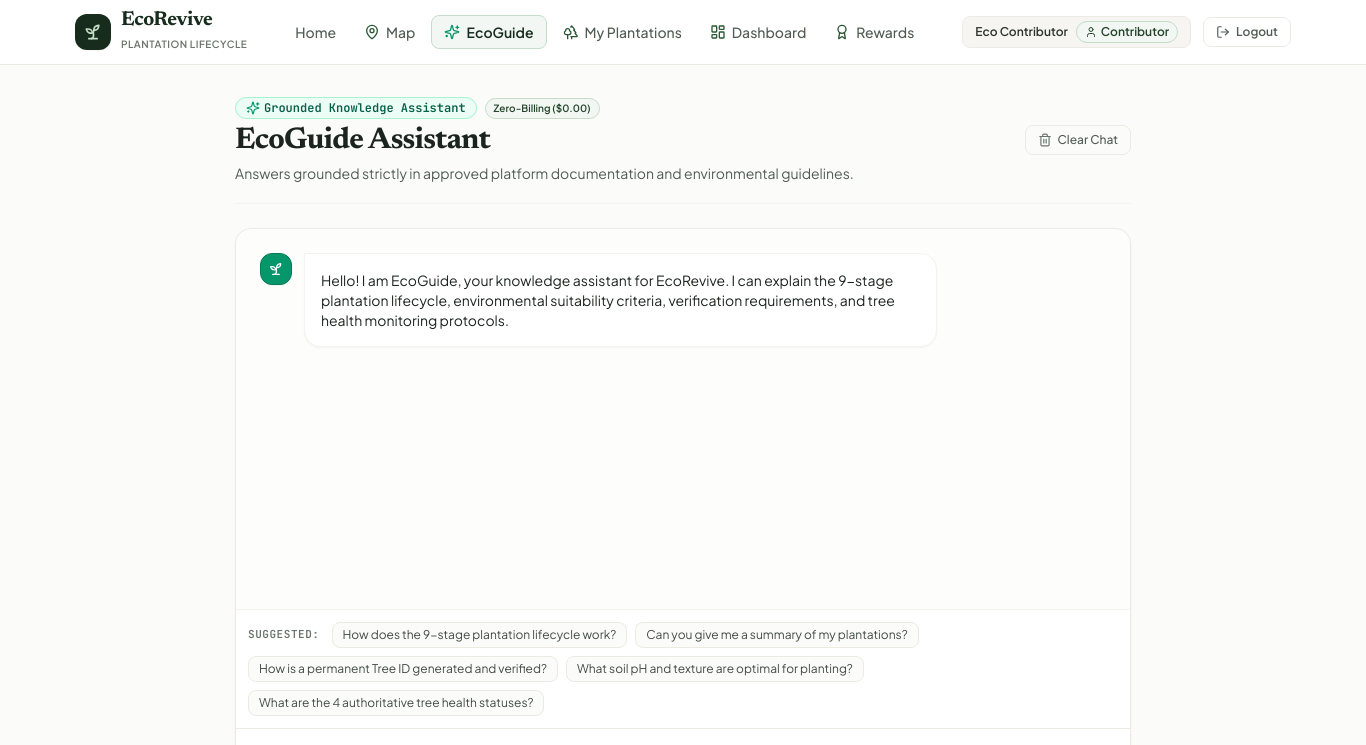
Frontend V2-M2 — EcoGuide Knowledge Assistant › should reset conversation when Clear Chat button is clicked
Click the button "Clear Chat".
click(1078, 140)  # box [1024,125,1131,155]
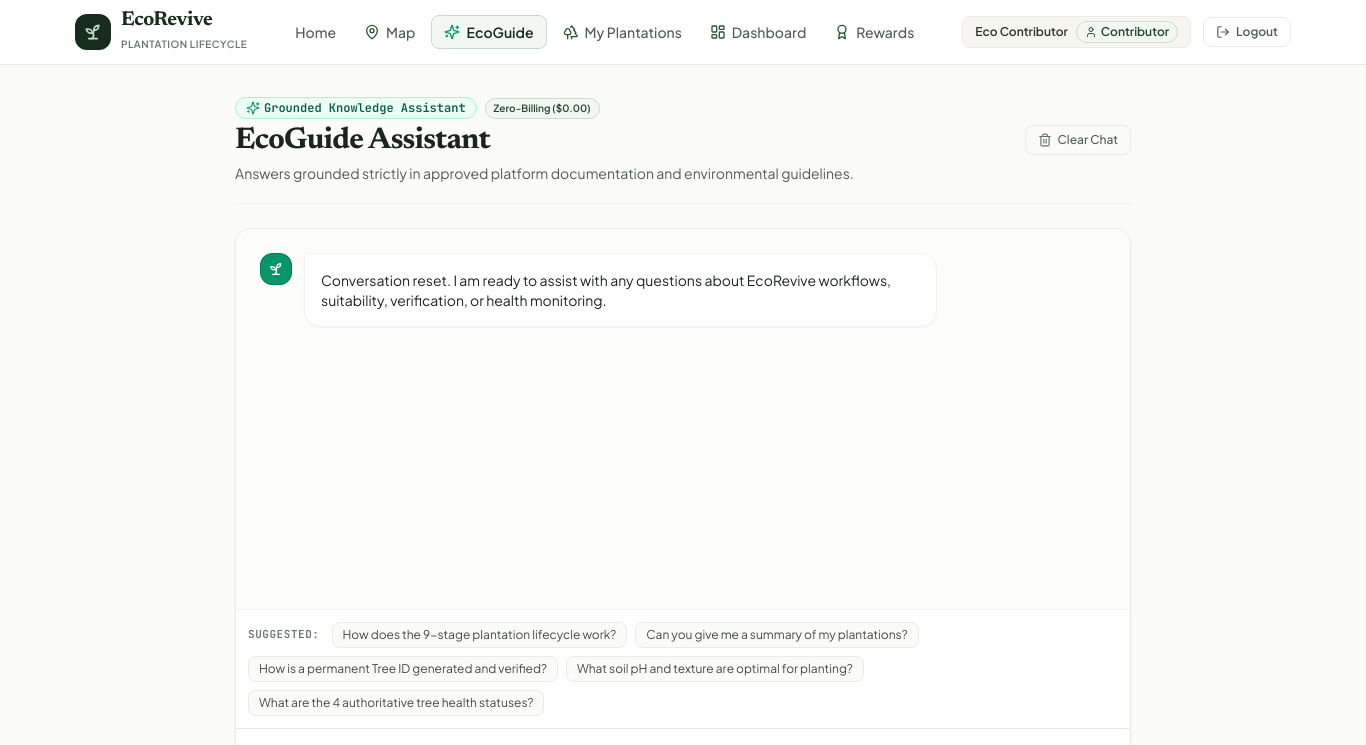
Expected: the text "Conversation reset" is shown, [321,271,893,309]
